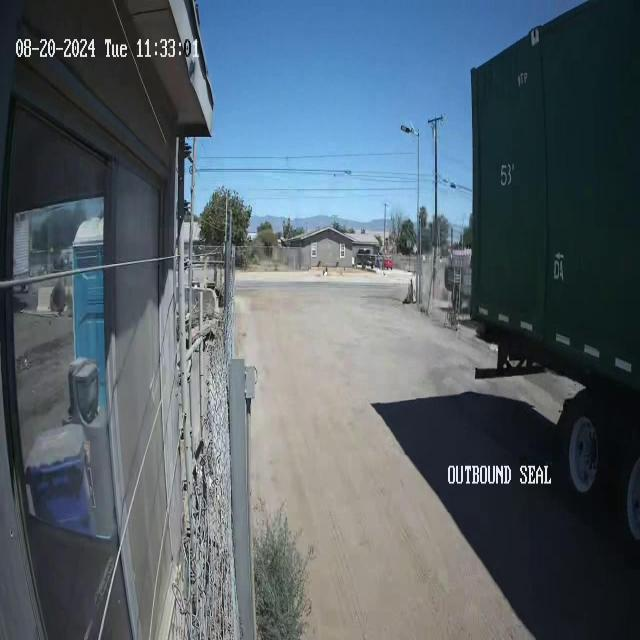TRUCK_IN: (468, 1, 639, 544)
